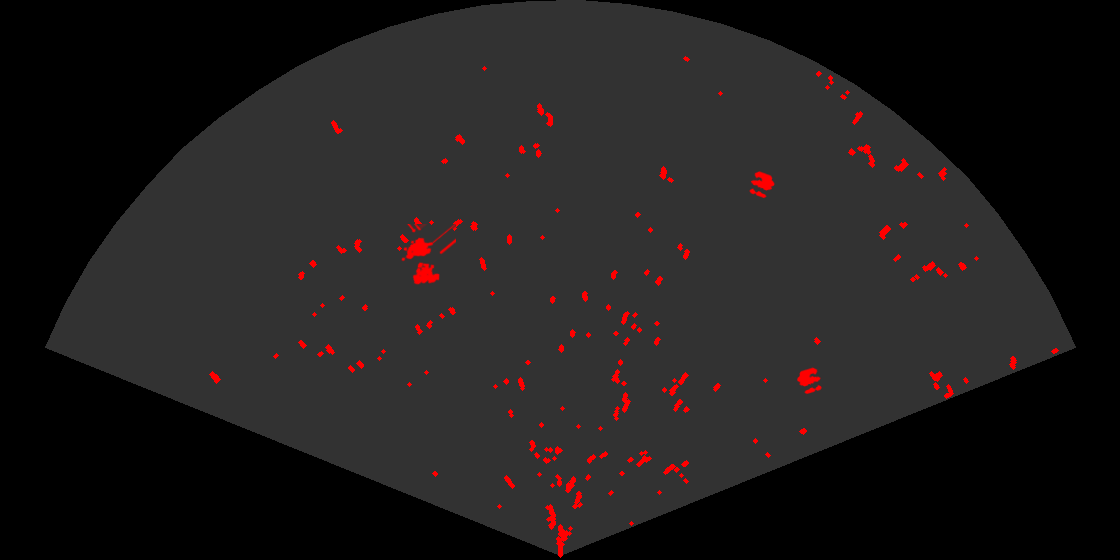ball: (795, 366, 824, 396), (748, 170, 776, 200)
cage: (400, 224, 456, 286)
